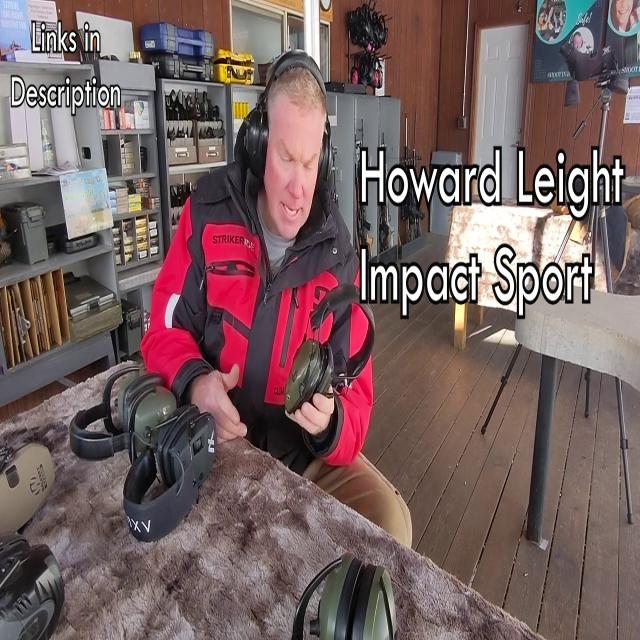earmuff: (239, 104, 271, 180), (315, 132, 343, 194)
